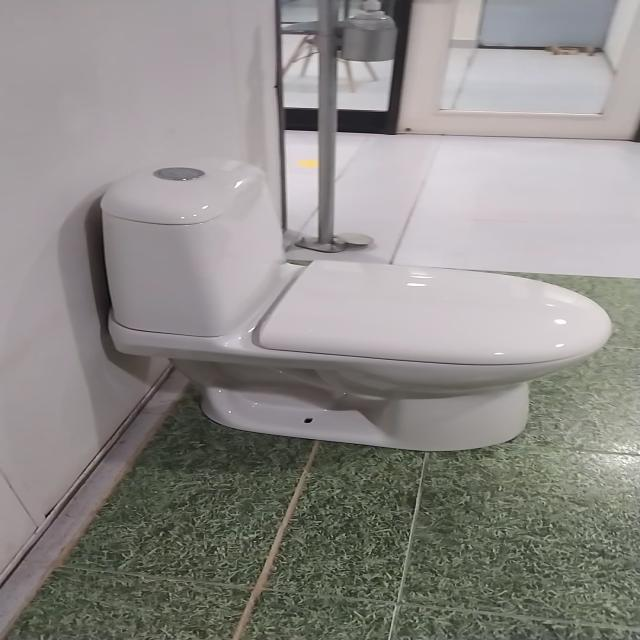toilet: (99, 157, 612, 452)
